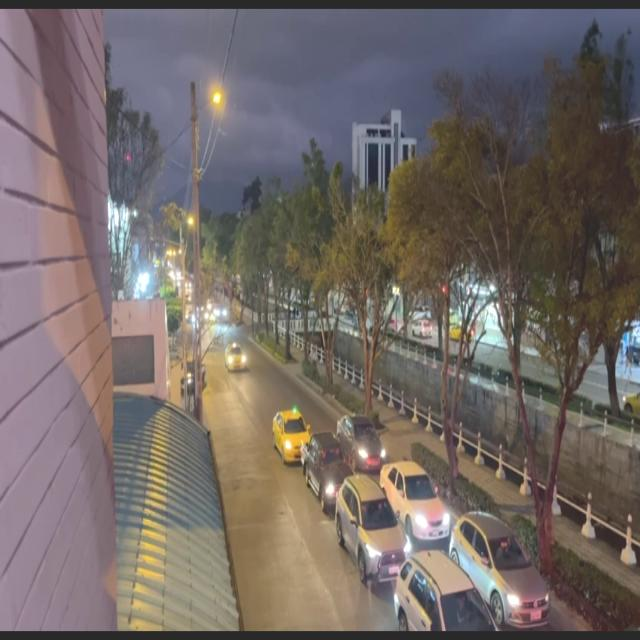CMT: (304, 432, 351, 508)
SUV: (397, 550, 485, 637), (336, 475, 405, 582)
